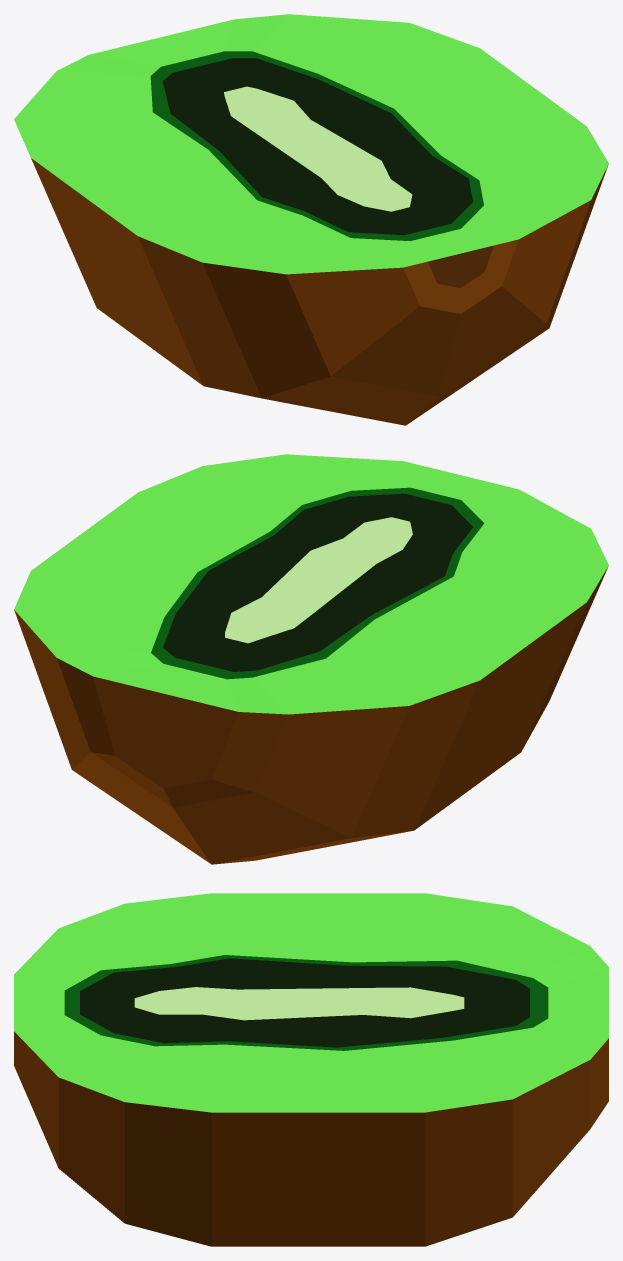
File: kiwi02.obj
The picture shows the model from 3 angles, top to bottom: view 1: azimuth 30°, elevation 25°; view 2: azimuth 150°, elevation 25°; view 3: azimuth 270°, elevation 25°; orthographic projection.
Parts seen in each view (by area): view 1: Cylinder.001; view 2: Cylinder.001; view 3: Cylinder.001.
Boxes of the visible parts, x1,y1,x2,y2 form: Cylinder.001: (14,14,608,425); Cylinder.001: (14,454,608,864); Cylinder.001: (14,893,608,1246).
Size of the model in its own units: 0.0522 by 0.0261 by 0.0599.
1 material, 1 textured.
